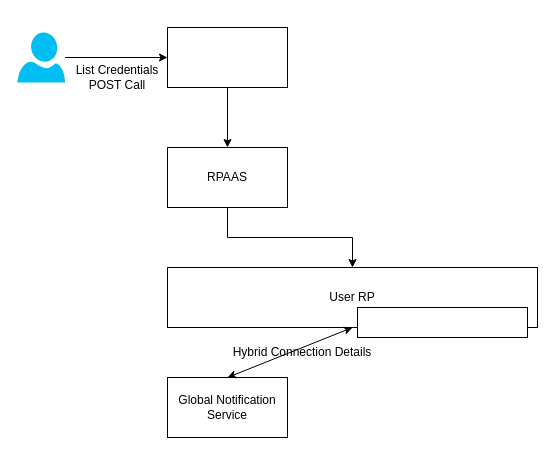
Some shapes in this 555 by 455 pixel diagram are drawn without their labels. Each missing label, with the centre of its shape:
ARM: [227,57]
Common Nuget Package to get HC Details from GNS: [442,322]
